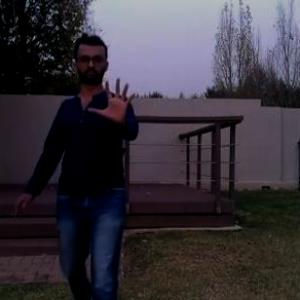follow_hand: (85, 73, 138, 128)
